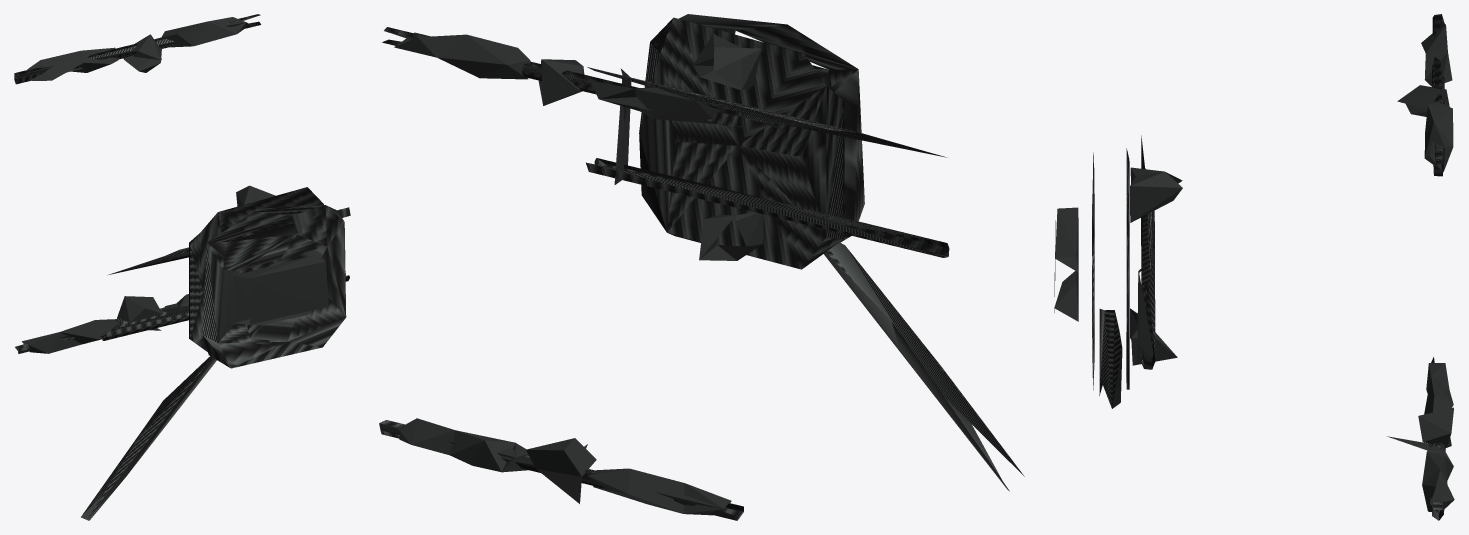
Rendered from NXP-HGD-CF.dae.
3 views of the same model, side by side, from view 1: azimuth 30°, elevation 25°; view 2: azimuth 150°, elevation 25°; view 3: azimuth 270°, elevation 25° (orthographic). The views are drawn at different scales.
Parts seen in each view (by area): view 1: node; view 2: node; view 3: node.
Boxes of the visible parts, left/top/right/bottom form: node: left=14, top=14, right=350, bottom=520; node: left=379, top=14, right=1024, bottom=520; node: left=1054, top=14, right=1454, bottom=520.
Bounding box in the file's own units: 0.3175 × 0.3392 × 0.2805.
Materials: 1 (1 with a texture image).
